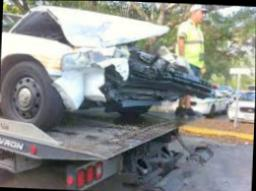Bonnet: (9, 5, 167, 46)
Bumper: (57, 66, 216, 109)
